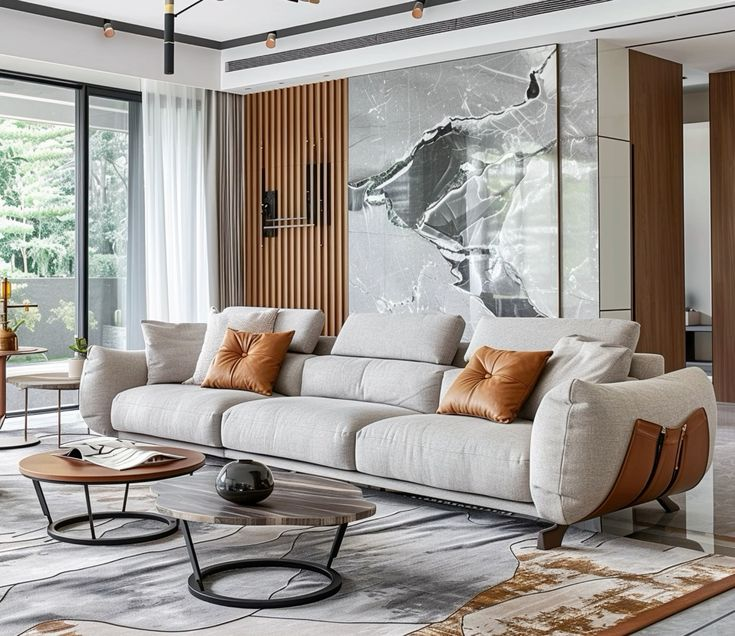3seatersofa: (80, 307, 715, 548)
backrest: (275, 309, 638, 412), (629, 353, 663, 378)
base: (120, 432, 539, 518)
leftarmrest: (531, 369, 715, 525)
leg: (536, 524, 568, 549), (657, 496, 678, 511)
pillow: (437, 335, 632, 422), (143, 309, 294, 394)
rightarmrest: (80, 346, 146, 433)
seat: (113, 385, 529, 500)
